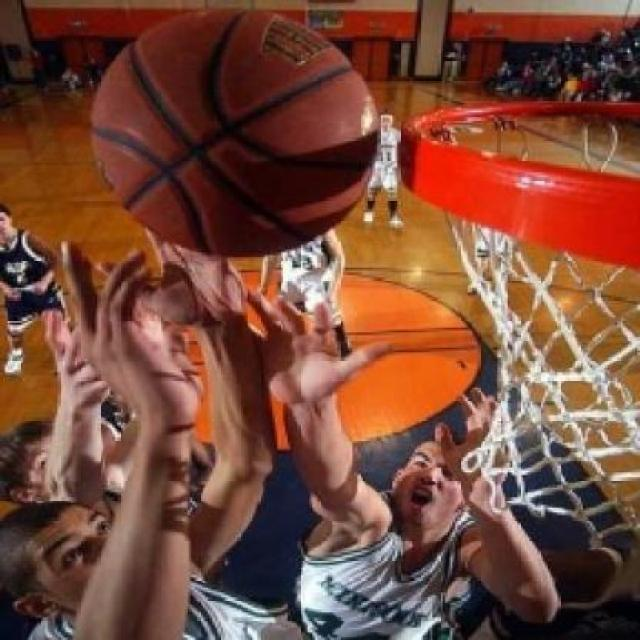basketball: (92, 7, 380, 266)
rim: (406, 96, 640, 450)
